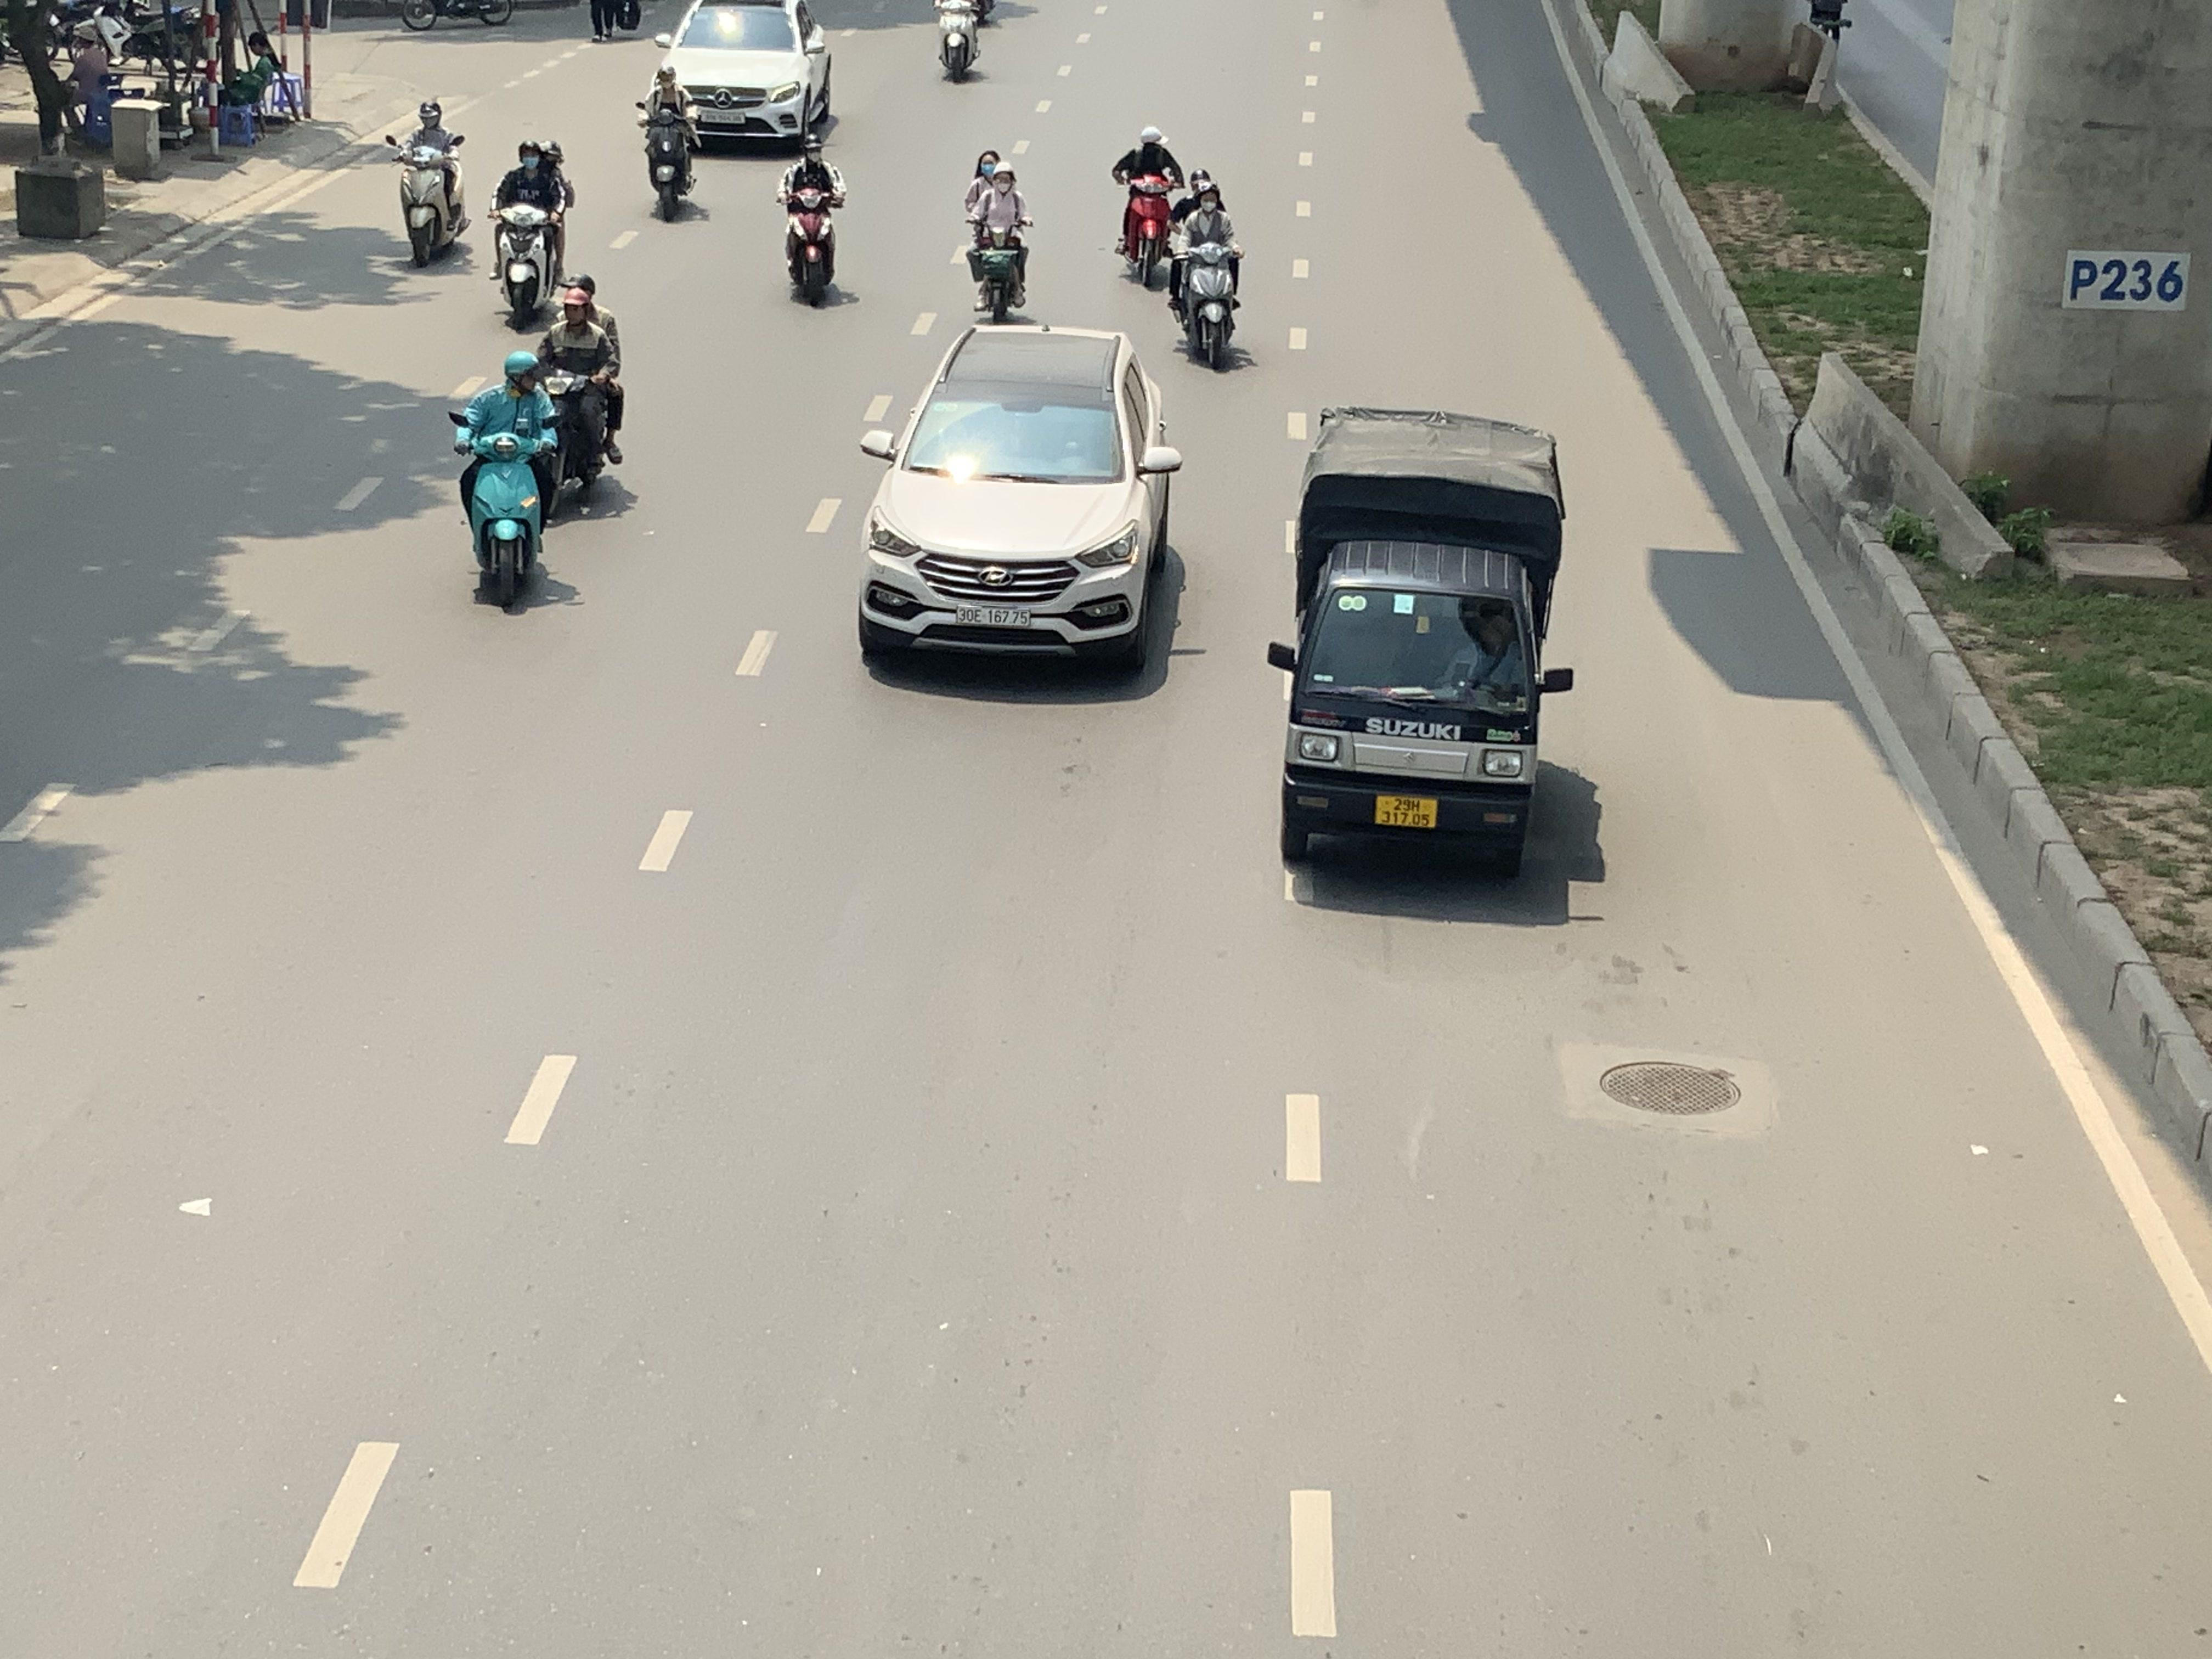BSD: (956, 605, 1033, 627)
BSV: (1376, 795, 1437, 828)
car: (855, 321, 1186, 678), (653, 0, 834, 150)
motorbike: (451, 350, 559, 615), (533, 275, 625, 518), (489, 138, 573, 333), (1167, 178, 1245, 373), (390, 98, 469, 268), (779, 132, 846, 308), (1113, 122, 1184, 289), (965, 153, 1033, 322), (637, 63, 704, 223), (934, 0, 988, 84)
truck: (1266, 404, 1575, 878)
